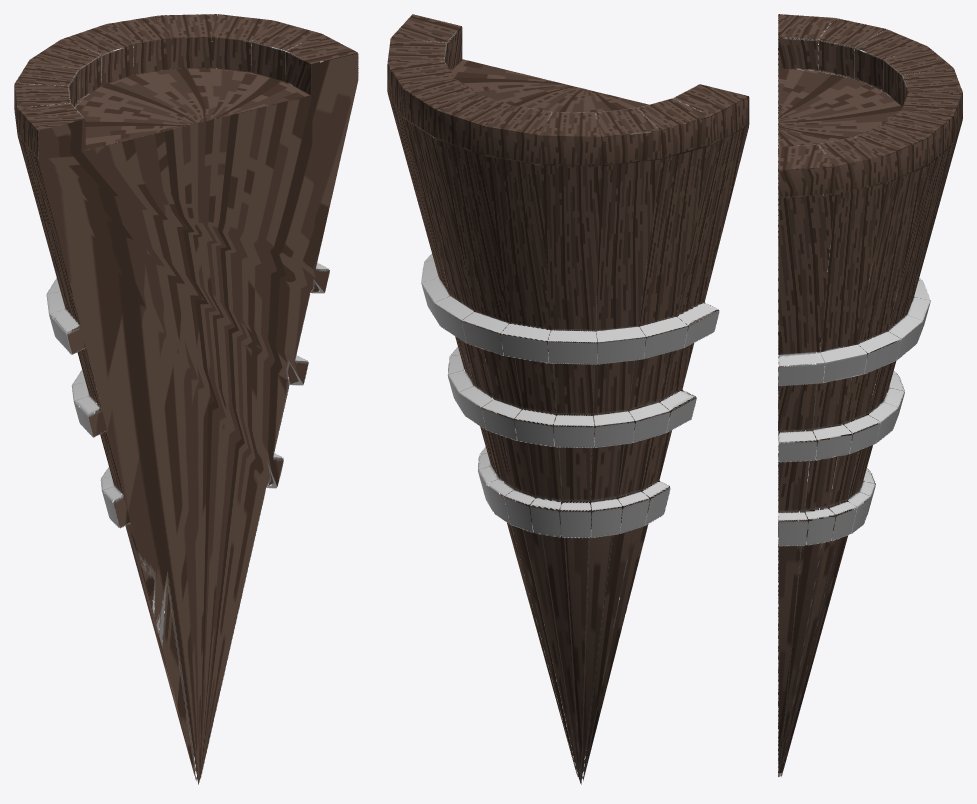
Rendered from TorchModel.fbx.
The picture shows the model from 3 angles, left to right: view 1: azimuth 30°, elevation 25°; view 2: azimuth 150°, elevation 25°; view 3: azimuth 270°, elevation 25°; orthographic projection. The views are drawn at different scales.
Visible parts, largest first — view 1: pCone1; view 2: pCone1; view 3: pCone1.
Part boxes in pixels (bbox=[...]): pCone1: bbox=[14, 14, 358, 784]; pCone1: bbox=[387, 14, 749, 784]; pCone1: bbox=[778, 14, 962, 776].
Size of the model in its own units: 0.9994 by 2.08 by 0.4997.
Materials: 1 (1 with a texture image).
